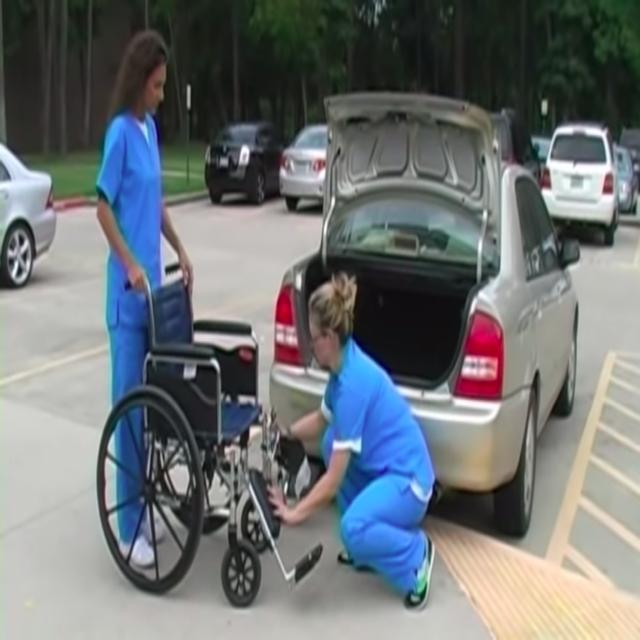wheelchairs: (101, 262, 297, 612)
